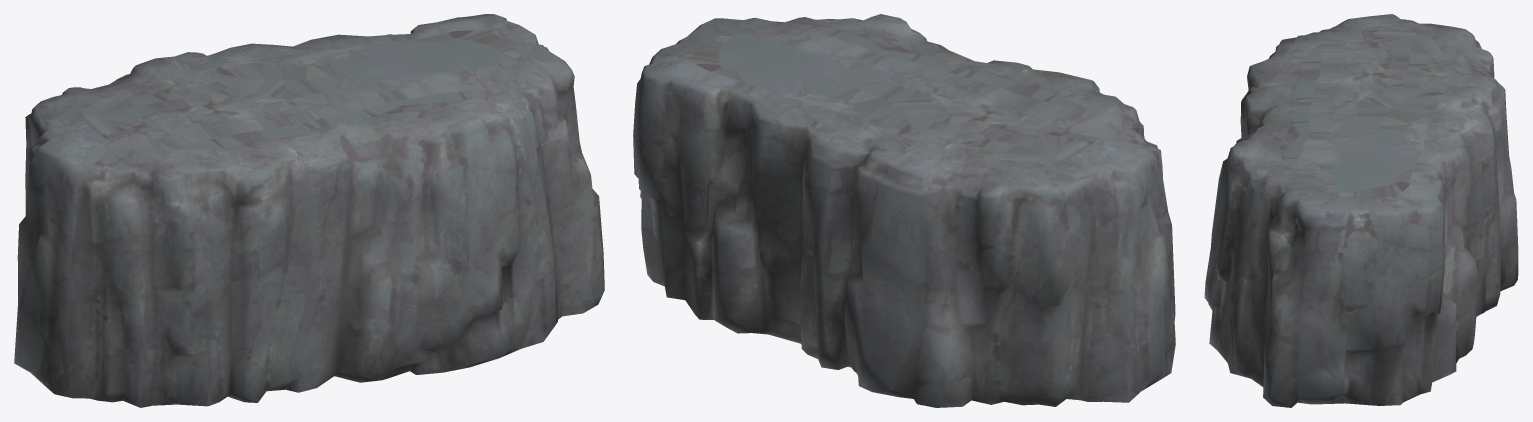
File: stone-5.fbx
3 renders of one model, left to right at view 1: azimuth 30°, elevation 25°; view 2: azimuth 150°, elevation 25°; view 3: azimuth 270°, elevation 25°, orthographic. The views are drawn at different scales.
Visible parts, largest first — view 1: Area_Ly_Stone_CSPY_Full_M_01_Lod0; view 2: Area_Ly_Stone_CSPY_Full_M_01_Lod0; view 3: Area_Ly_Stone_CSPY_Full_M_01_Lod0.
Part boxes in pixels (x1,y1,x2,y2): Area_Ly_Stone_CSPY_Full_M_01_Lod0: (14, 14, 604, 407); Area_Ly_Stone_CSPY_Full_M_01_Lod0: (633, 14, 1175, 407); Area_Ly_Stone_CSPY_Full_M_01_Lod0: (1204, 14, 1518, 407).
Bounding box in the file's own units: 3899 × 1660 × 2387.
1 material, 1 textured.
